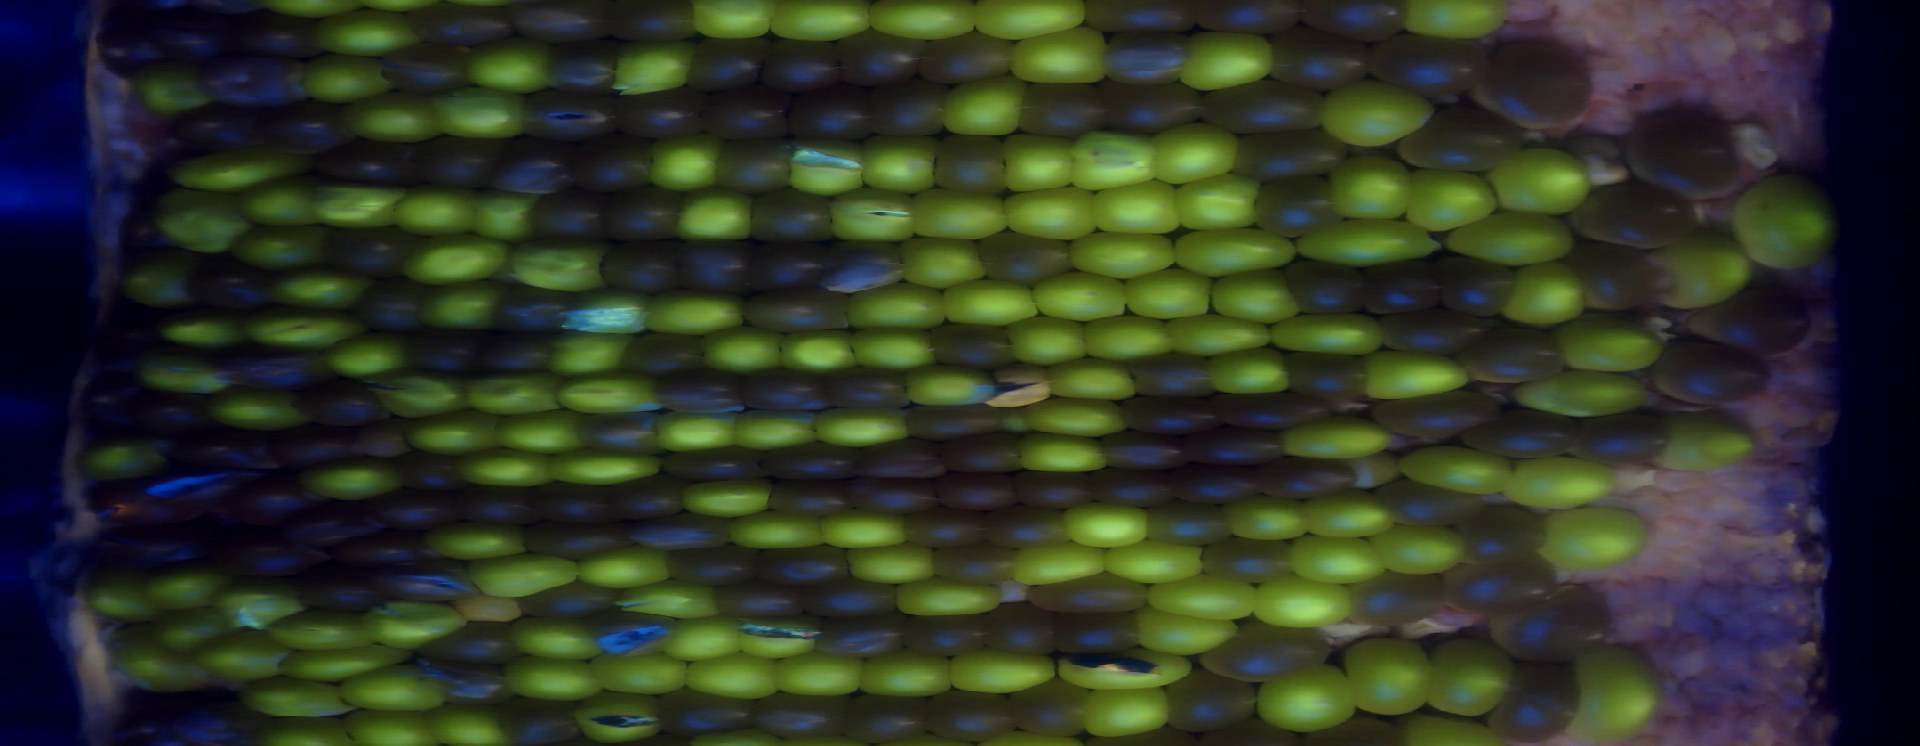fluorescent: (1723, 163, 1842, 276), (1560, 641, 1669, 746), (1643, 223, 1760, 318), (162, 138, 324, 198), (1314, 75, 1439, 151), (1335, 628, 1438, 720), (1485, 140, 1599, 222), (1425, 632, 1523, 726), (1293, 211, 1449, 269), (1536, 501, 1654, 577), (1318, 146, 1423, 229), (1513, 365, 1660, 423), (1400, 163, 1509, 240), (1393, 439, 1522, 503), (146, 186, 260, 258), (1255, 655, 1359, 734), (1167, 222, 1305, 281), (999, 20, 1116, 89), (1555, 309, 1671, 379), (238, 299, 376, 356), (1176, 21, 1282, 96), (1654, 405, 1761, 480), (102, 627, 219, 695), (1502, 450, 1624, 514), (1051, 643, 1200, 695), (1353, 343, 1476, 405), (393, 229, 516, 290), (906, 181, 1021, 246), (354, 590, 473, 653), (504, 233, 617, 298), (1164, 167, 1269, 236), (267, 639, 415, 688), (937, 642, 1065, 698), (358, 363, 478, 423), (1498, 256, 1596, 330), (1145, 118, 1245, 189), (637, 281, 756, 341), (1063, 124, 1164, 194), (1201, 265, 1307, 332), (227, 668, 355, 723), (425, 81, 534, 146), (1245, 572, 1360, 633), (1064, 225, 1185, 283), (462, 546, 588, 601), (1266, 307, 1391, 363), (334, 659, 453, 717), (1024, 265, 1133, 327), (460, 29, 560, 98), (1086, 175, 1190, 240), (284, 453, 411, 506), (841, 277, 955, 336), (340, 86, 444, 149), (307, 2, 425, 59), (235, 170, 337, 235), (1116, 261, 1221, 323), (121, 53, 220, 119), (1131, 601, 1240, 661), (550, 365, 671, 419), (605, 33, 702, 100), (997, 183, 1101, 245), (220, 219, 336, 276), (1161, 309, 1276, 365), (70, 429, 180, 488), (1076, 681, 1182, 742), (1369, 521, 1474, 582), (665, 180, 760, 247), (495, 650, 611, 706), (261, 262, 380, 316), (1275, 407, 1393, 461), (1075, 306, 1182, 366), (855, 643, 961, 703), (605, 575, 729, 626), (824, 183, 922, 247), (719, 503, 834, 559), (1287, 529, 1392, 589), (208, 578, 311, 639), (937, 72, 1030, 140), (782, 132, 876, 200), (387, 179, 485, 243), (557, 282, 662, 341), (895, 359, 1007, 414), (676, 650, 785, 707), (855, 129, 944, 197), (1098, 535, 1215, 588), (190, 620, 291, 680), (418, 516, 539, 566), (264, 606, 386, 657), (639, 129, 731, 195), (135, 342, 238, 401), (890, 572, 1010, 622), (305, 178, 414, 233), (587, 646, 696, 701), (1297, 484, 1398, 543), (894, 229, 989, 292), (296, 47, 396, 107), (934, 276, 1044, 330), (1005, 537, 1116, 590), (572, 540, 684, 593), (506, 610, 611, 666), (203, 383, 312, 437), (400, 405, 507, 461), (806, 401, 917, 453), (997, 129, 1084, 196), (967, 1, 1096, 47), (1022, 392, 1134, 443), (769, 646, 868, 703), (1000, 307, 1093, 369), (839, 537, 944, 590), (545, 443, 670, 489), (317, 327, 418, 383), (491, 403, 591, 459), (1056, 497, 1157, 552), (658, 606, 748, 668), (1011, 426, 1117, 479), (1040, 352, 1142, 405), (769, 322, 867, 379), (696, 322, 793, 379), (153, 303, 260, 354), (459, 367, 566, 419), (1202, 341, 1296, 399), (544, 326, 640, 382), (729, 609, 827, 664), (574, 688, 666, 746), (672, 474, 782, 522), (140, 560, 235, 615), (414, 276, 504, 333), (863, 1, 988, 43), (115, 249, 200, 310), (144, 604, 245, 655), (454, 441, 560, 490), (648, 403, 746, 456), (763, 1, 879, 45), (1400, 1, 1516, 45), (1218, 490, 1311, 545), (588, 608, 682, 661), (75, 567, 163, 624), (819, 502, 916, 552), (729, 399, 824, 450), (470, 184, 545, 247), (418, 698, 516, 746), (845, 323, 940, 372), (245, 709, 358, 746), (340, 704, 440, 746), (686, 1, 787, 42)
nonfluorescent: (1476, 39, 1607, 131), (1622, 103, 1745, 201), (1484, 579, 1609, 669), (1393, 98, 1531, 179), (1689, 281, 1824, 359), (1649, 331, 1780, 410), (1191, 619, 1340, 688), (1571, 179, 1704, 255), (1483, 653, 1591, 745), (1365, 24, 1495, 100), (200, 336, 347, 399), (1195, 73, 1338, 135), (1367, 383, 1510, 443), (1455, 404, 1596, 464), (1444, 548, 1569, 615), (160, 418, 291, 481), (1093, 73, 1215, 140), (1265, 24, 1378, 96), (1224, 126, 1358, 185), (151, 684, 276, 746), (1456, 321, 1571, 388), (407, 127, 516, 197), (1556, 407, 1678, 469), (1247, 169, 1353, 240), (1155, 668, 1265, 736), (1562, 239, 1663, 314), (741, 232, 851, 299), (1375, 301, 1499, 361), (1020, 566, 1161, 619), (250, 96, 365, 159), (971, 225, 1081, 292), (193, 51, 315, 111), (513, 85, 629, 147), (214, 521, 331, 582), (741, 282, 861, 341), (564, 129, 665, 198), (1451, 502, 1559, 567), (1209, 385, 1344, 436), (318, 220, 426, 284), (912, 26, 1019, 89), (1367, 477, 1495, 529), (313, 134, 427, 192), (1341, 570, 1455, 628), (831, 26, 928, 94), (754, 31, 849, 100), (816, 235, 915, 301), (1097, 24, 1198, 89), (73, 478, 189, 534), (1276, 254, 1374, 320), (1195, 532, 1305, 590), (613, 85, 715, 148), (1247, 450, 1365, 503), (285, 371, 389, 432), (744, 184, 842, 249), (94, 294, 173, 375), (396, 1, 522, 51), (178, 255, 283, 315), (1116, 390, 1236, 442), (595, 233, 691, 299), (1356, 256, 1455, 320), (144, 462, 273, 511), (1431, 250, 1523, 318), (410, 614, 522, 670), (369, 554, 485, 608), (696, 89, 800, 149), (489, 138, 593, 198), (1016, 73, 1108, 141), (1275, 345, 1378, 405), (682, 28, 775, 94), (127, 381, 225, 443), (571, 405, 675, 464), (1005, 673, 1096, 740), (165, 97, 271, 154), (1180, 420, 1296, 473), (378, 36, 475, 98), (264, 416, 365, 477), (751, 686, 857, 742), (918, 687, 1025, 744), (599, 181, 689, 247), (91, 10, 178, 78), (655, 685, 765, 739), (650, 363, 753, 420), (284, 491, 384, 550), (707, 134, 797, 198), (924, 318, 1022, 379), (291, 559, 389, 619), (838, 686, 936, 746), (115, 519, 222, 575), (485, 281, 584, 339), (931, 131, 1014, 201), (211, 477, 321, 529), (1127, 347, 1227, 404), (811, 609, 911, 666), (147, 6, 238, 70), (751, 537, 860, 589), (623, 510, 740, 559), (735, 364, 840, 418), (800, 570, 905, 624), (80, 367, 154, 443), (539, 32, 624, 98), (662, 540, 775, 590), (1048, 603, 1149, 659), (519, 519, 640, 566), (899, 501, 998, 557), (980, 598, 1067, 661), (782, 80, 866, 146), (1294, 1, 1416, 47), (523, 187, 613, 247), (901, 399, 1021, 445), (359, 483, 464, 534), (923, 538, 1029, 589), (495, 693, 598, 746), (231, 10, 332, 64), (759, 439, 867, 489), (396, 322, 489, 380), (509, 1, 618, 50), (980, 502, 1080, 555), (465, 325, 563, 379), (420, 658, 522, 709), (849, 436, 953, 486), (864, 78, 947, 142), (1095, 424, 1194, 477), (516, 578, 624, 626), (1174, 457, 1272, 510), (331, 524, 438, 572), (655, 442, 771, 486), (680, 232, 756, 299), (823, 360, 920, 413), (838, 473, 947, 519), (1085, 464, 1185, 514), (1141, 495, 1239, 546), (615, 330, 711, 381), (527, 478, 623, 529), (902, 608, 997, 660), (936, 428, 1031, 479), (710, 575, 813, 621), (451, 481, 545, 532), (345, 276, 427, 333), (1078, 1, 1207, 37), (599, 1, 700, 47), (760, 478, 862, 523), (934, 469, 1033, 514), (1177, 1, 1308, 36), (605, 473, 692, 522), (107, 209, 187, 262), (1013, 464, 1101, 512), (387, 447, 470, 497), (345, 414, 415, 465)
